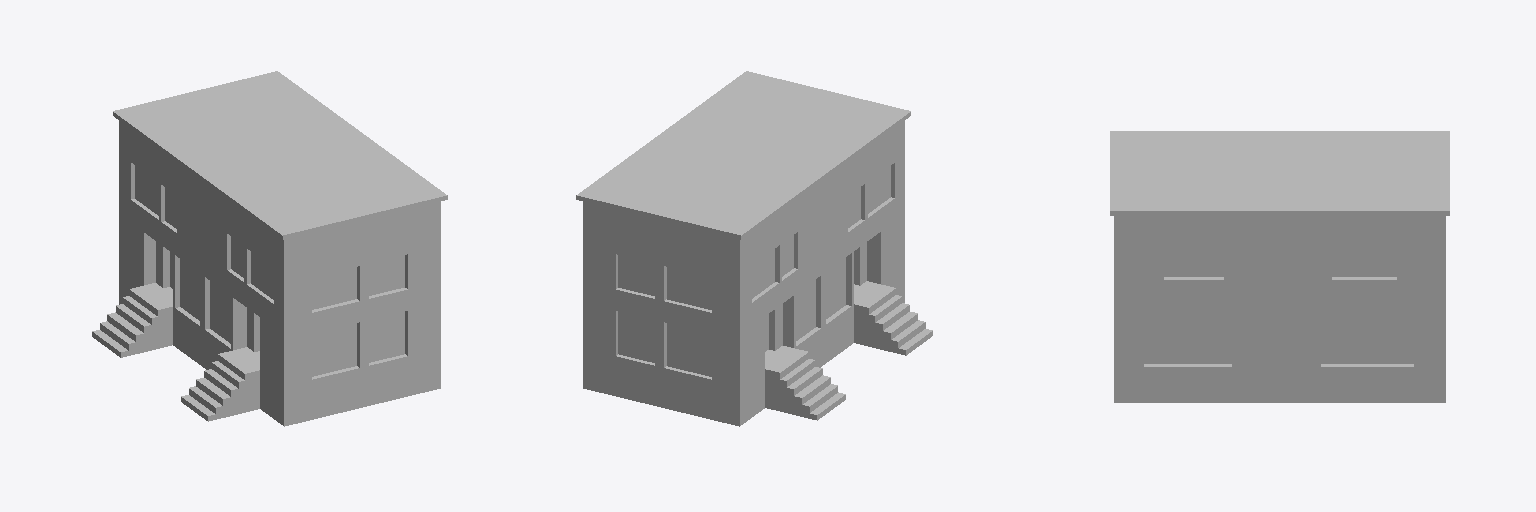
Rendered from Apartment Verison 1.obj.
The picture shows the model from 3 angles: view 1: azimuth 30°, elevation 25°; view 2: azimuth 150°, elevation 25°; view 3: azimuth 270°, elevation 25°; orthographic projection.
Parts seen in each view (by area): view 1: Cube.004_Cube; view 2: Cube.004_Cube; view 3: Cube.004_Cube.
Part boxes in pixels (left/top/right/bottom): Cube.004_Cube: left=92, top=71, right=447, bottom=426; Cube.004_Cube: left=576, top=71, right=932, bottom=426; Cube.004_Cube: left=1110, top=131, right=1449, bottom=402.
Size of the model in its own units: 2.95 by 2.56 by 4.08.